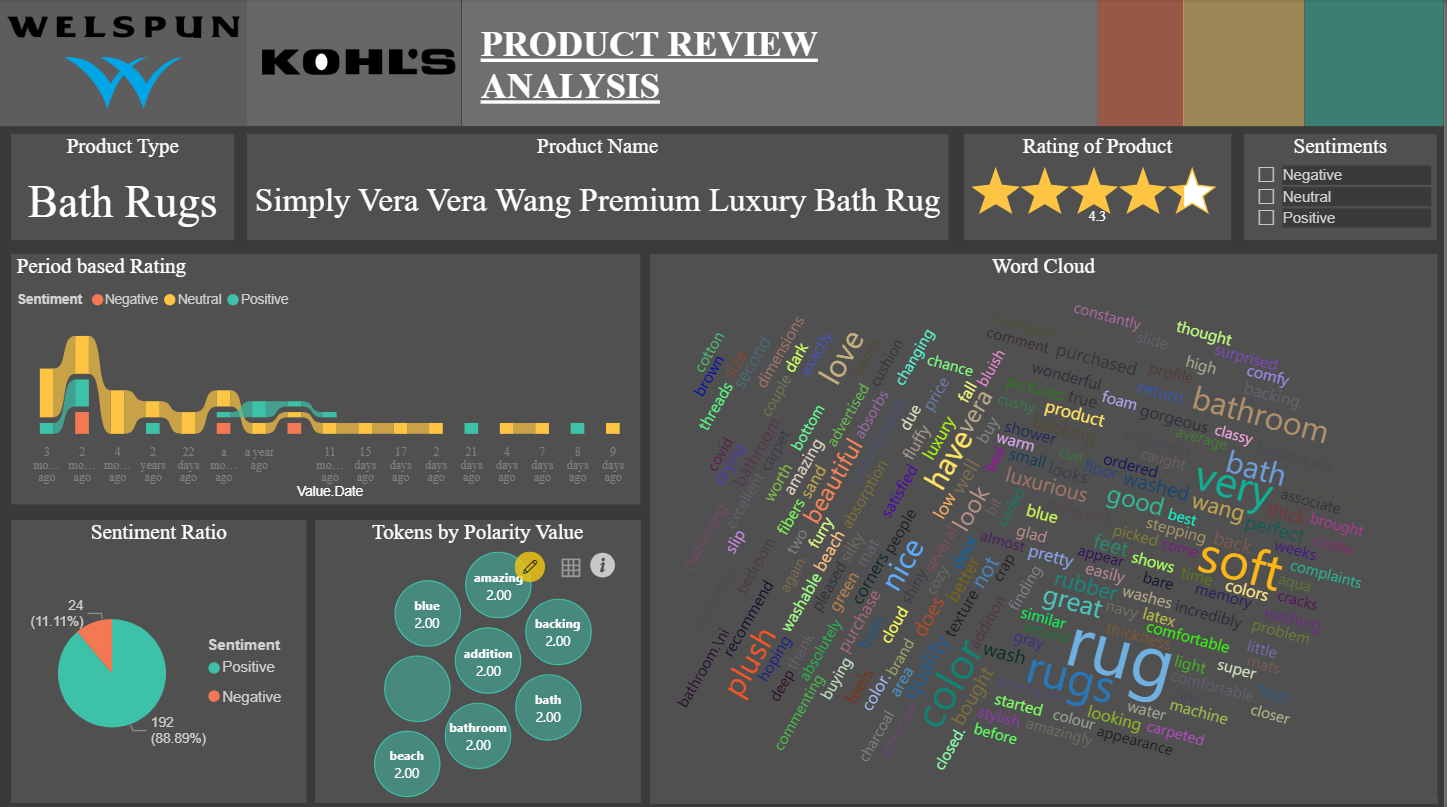

What the dashboard file says about the page in this screenshot:
{"tool":"powerbi","page":{"name":"Kohl's Bath Rug Review","canvas":[1280,720],"ordinal":0},"visuals":[{"type":"ribbonChart","title":"Period based Rating","fields":{"Category":["Bath Rugs.Value.Date"],"Y":["Bath Rugs.Value.Rating"],"Series":["Bath Rugs.Sentiment"]},"box":[10.2,226.5,557.7,222.5],"z":0},{"type":"PBI_CV_9053509D_D461_463A_B485_CE9F6AB0F13D","title":"Rating of Product","fields":{"value":["Bath Rugs.Value.Rating"]},"box":[854.3,119.9,236.7,94.5],"z":1000},{"type":"WordCloud1447959067750","title":"Word Cloud","fields":{"Category":["Bath Rugs.Value.Tokens"],"Values":["Bath Rugs.Value.Frequency"]},"box":[576,226.5,697.9,486.6],"z":2000},{"type":"pieChart","title":"Sentiment Ratio","fields":{"Category":["Bath Rugs.Sentiment"],"Y":["Bath Rugs.Value.Frequency"]},"box":[10.2,462.2,262.1,250.9],"z":3000},{"type":"card","title":"Product Type","fields":{"Values":["Bath Rugs.Value.Product_Type"]},"box":[10.2,119.9,198.1,94.5],"z":4000},{"type":"card","title":"Product Name","fields":{"Values":["Bath Rugs.Value.Product_Name"]},"box":[219.4,119.9,621.7,94.5],"z":5000},{"type":"packedBubble563FBEFA65CC43A48496B6BB533D9890","title":"Tokens by Polarity Value","fields":{"category":["Bath Rugs.Value.Tokens"],"measure":["Bath Rugs.Value.polarity scores"]},"box":[279.4,462.2,288.5,250.9],"z":6000},{"type":"slicer","title":"Sentiments","fields":{"Values":["Bath Rugs.Sentiment"]},"box":[1103.2,119.9,170.7,94.5],"z":7000},{"type":"shape","box":[0,0,219.4,112.8],"z":8000},{"type":"shape","box":[973.2,0,76.2,112.8],"z":9000},{"type":"shape","box":[1049.4,0,107.7,112.8],"z":10000},{"type":"shape","box":[1157.1,0,122.9,112.8],"z":11000},{"type":"image","box":[0,0,219.4,112.8],"z":12000},{"type":"shape","box":[219.4,0,190,112.8],"z":13000},{"type":"image","box":[219.4,0,198.1,112.8],"z":14000},{"type":"shape","box":[409.4,0,563.8,112.8],"z":15000},{"type":"textbox","box":[421.6,17.3,505.9,84.3],"z":16000}]}

Visuals, with their boxes in screenshot pixels (x1, y1, x2, y2), scaled from the page's 1280x720 canvas onto the 1447x807 screenshot:
"Period based Rating" ribbonChart: locate(12, 254, 642, 503)
"Rating of Product" PBI_CV_9053509D_D461_463A_B485_CE9F6AB0F13D: locate(966, 134, 1233, 240)
"Word Cloud" WordCloud1447959067750: locate(651, 254, 1440, 799)
"Sentiment Ratio" pieChart: locate(12, 518, 308, 799)
"Product Type" card: locate(12, 134, 235, 240)
"Product Name" card: locate(248, 134, 951, 240)
"Tokens by Polarity Value" packedBubble563FBEFA65CC43A48496B6BB533D9890: locate(316, 518, 642, 799)
"Sentiments" slicer: locate(1247, 134, 1440, 240)
shape: locate(0, 0, 248, 126)
shape: locate(1100, 0, 1186, 126)
shape: locate(1186, 0, 1308, 126)
shape: locate(1308, 0, 1446, 126)
image: locate(0, 0, 248, 126)
shape: locate(248, 0, 463, 126)
image: locate(248, 0, 472, 126)
shape: locate(463, 0, 1100, 126)
textbox: locate(477, 19, 1049, 114)
